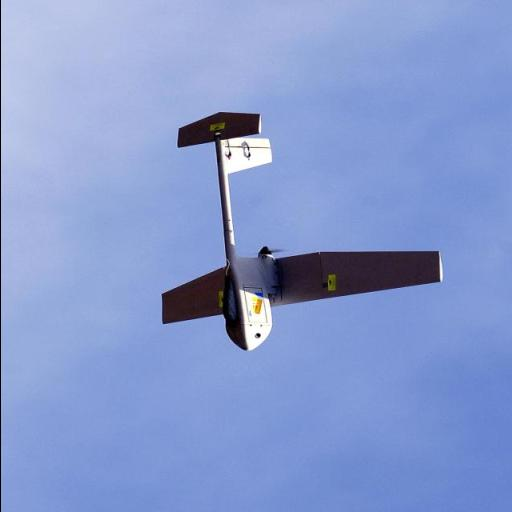uav: (142, 103, 448, 351)
